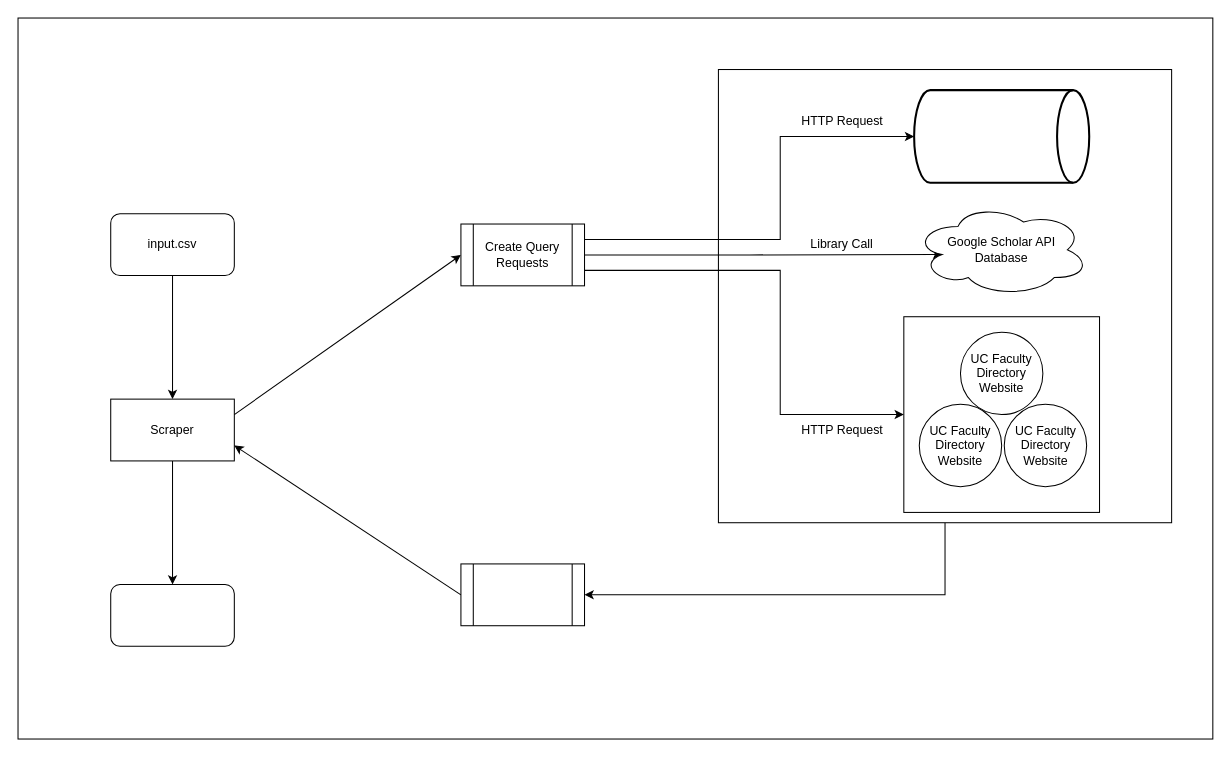
Image size: 1231x757. Some labels were removed from this diagram. The shapes that lost their labels are listed below. From the top down, each one's centre as x and y in pixels, then its label:
At (x=1001, y=136): "UC Annual Wage Database".
At (x=172, y=614): "output.csv".
At (x=522, y=594): "Return Query Requests".
